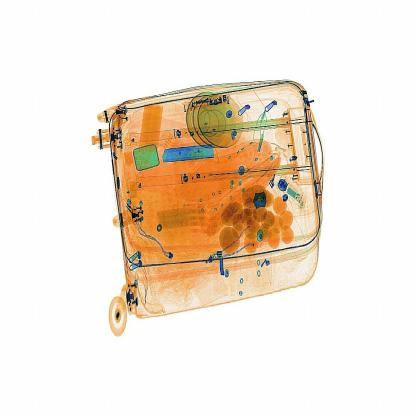pliers: (160, 145, 219, 165)
